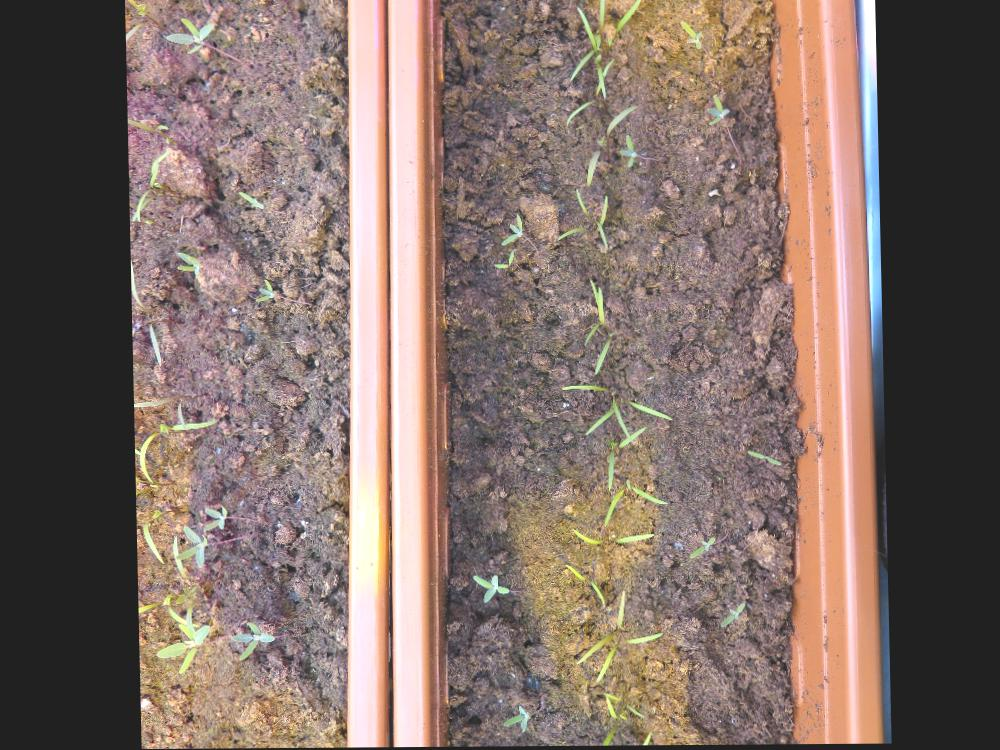weed: (161, 18, 215, 56), (225, 622, 273, 662), (468, 574, 509, 606), (494, 705, 531, 735), (497, 214, 522, 248), (676, 21, 702, 53), (715, 604, 744, 630), (704, 97, 729, 127), (613, 136, 635, 170), (197, 506, 225, 532), (172, 252, 201, 277), (682, 538, 712, 561), (742, 451, 779, 469), (235, 190, 263, 212), (250, 279, 272, 304), (489, 250, 515, 271)
